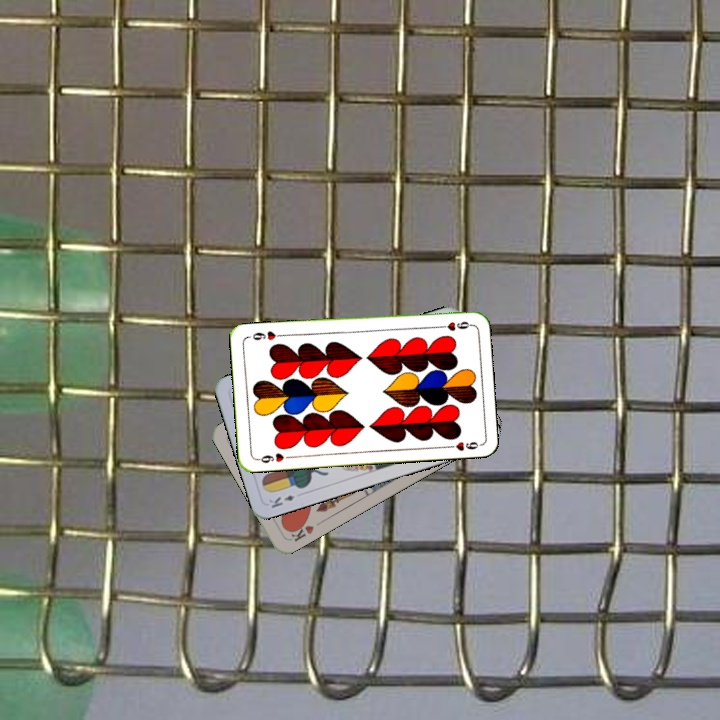EK: (265, 491, 297, 511)
H9: (253, 449, 293, 466), (433, 317, 473, 333)
HK: (285, 518, 316, 544)
